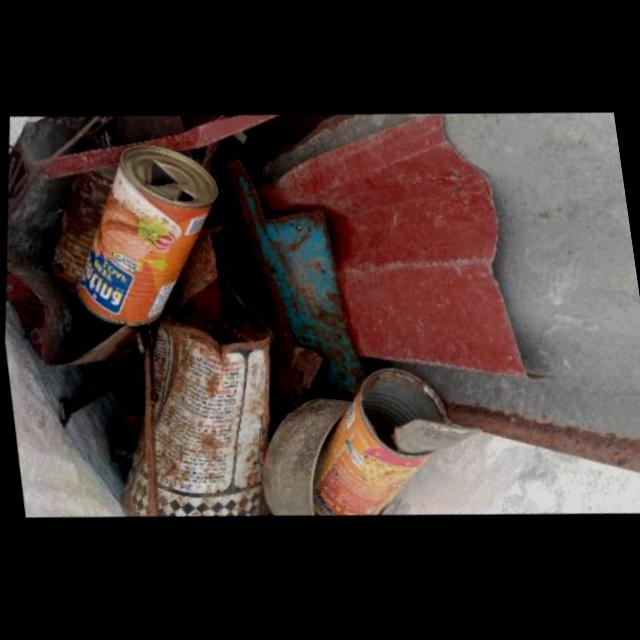nhom: (122, 314, 273, 516), (76, 144, 216, 327), (312, 369, 482, 516), (47, 164, 116, 294)
